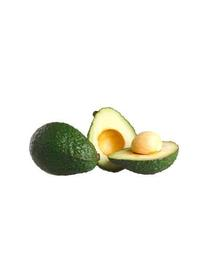avocado: (28, 122, 100, 176), (86, 107, 137, 173), (107, 138, 180, 176)
